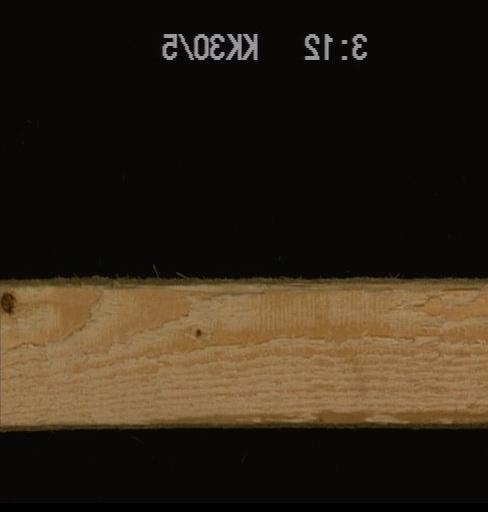dry_knot: (0, 287, 18, 314)
small_knot: (188, 323, 204, 339)
wave: (140, 407, 486, 429), (126, 276, 483, 290)
